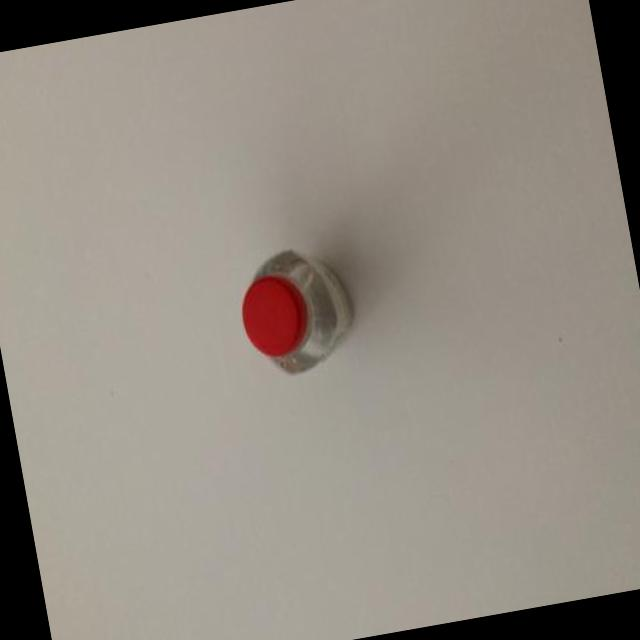Recycle: (231, 236, 370, 388)
